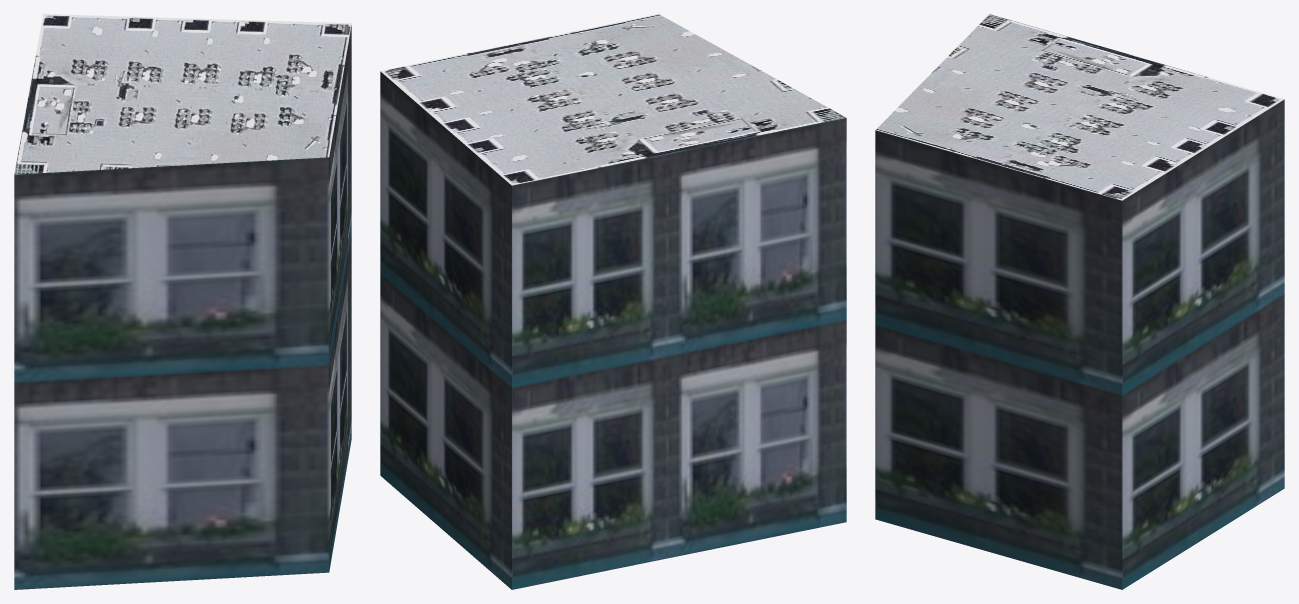
File: ResTex__115.fbx
3 views of the same model, side by side, from view 1: azimuth 30°, elevation 25°; view 2: azimuth 150°, elevation 25°; view 3: azimuth 270°, elevation 25° (orthographic). The views are drawn at different scales.
Parts seen in each view (by area): view 1: CityEngineMaterial_11_m, CityEngineMaterial_m; view 2: CityEngineMaterial_11_m, CityEngineMaterial_m; view 3: CityEngineMaterial_11_m, CityEngineMaterial_m.
Boxes of the visible parts, x1,y1,x2,y2 form: CityEngineMaterial_11_m: (14, 25, 351, 589); CityEngineMaterial_m: (14, 14, 351, 174); CityEngineMaterial_11_m: (380, 71, 846, 589); CityEngineMaterial_m: (380, 14, 846, 185); CityEngineMaterial_11_m: (875, 99, 1284, 589); CityEngineMaterial_m: (875, 14, 1283, 200).
Bounding box in the file's own units: 6.17 × 6 × 5.72.
2 materials, 2 textured.
